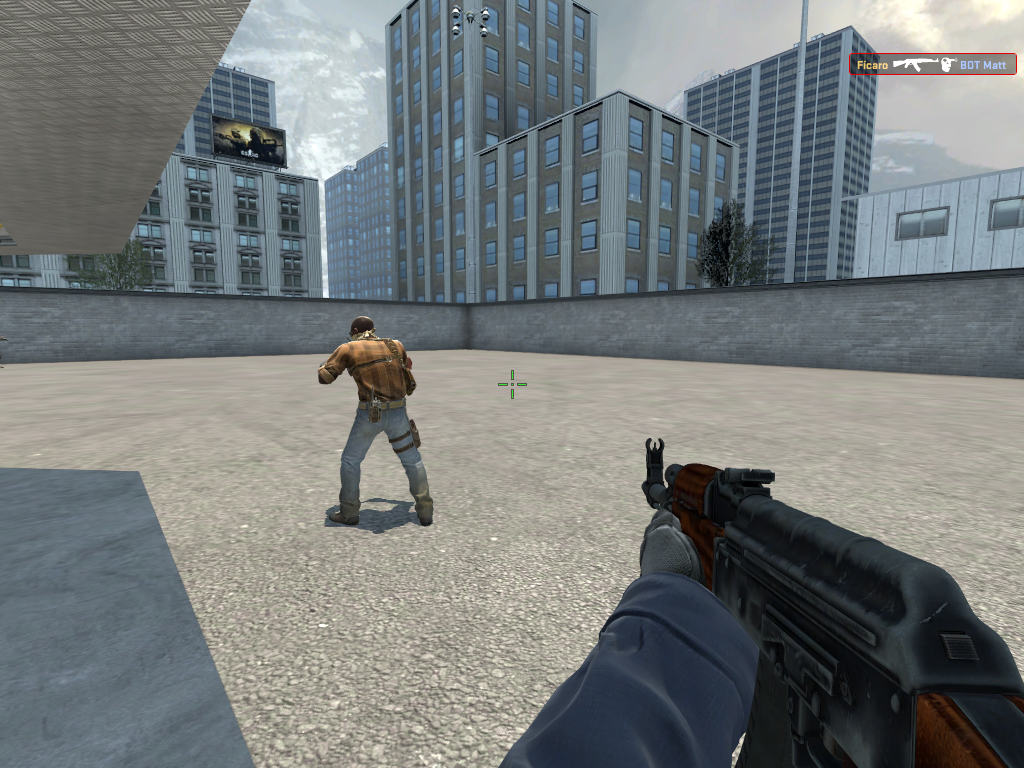tr head: (345, 315, 379, 349)
